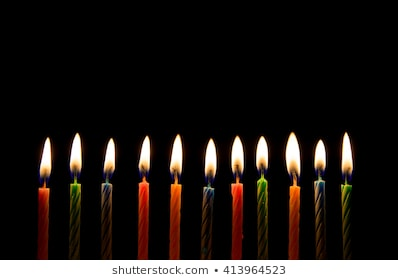Fire: (281, 130, 307, 178), (67, 130, 86, 178), (229, 131, 248, 176), (167, 131, 185, 178), (339, 127, 355, 176), (137, 131, 154, 176), (204, 131, 218, 183), (101, 136, 119, 174), (39, 134, 54, 178), (313, 136, 328, 175), (255, 132, 269, 171)
